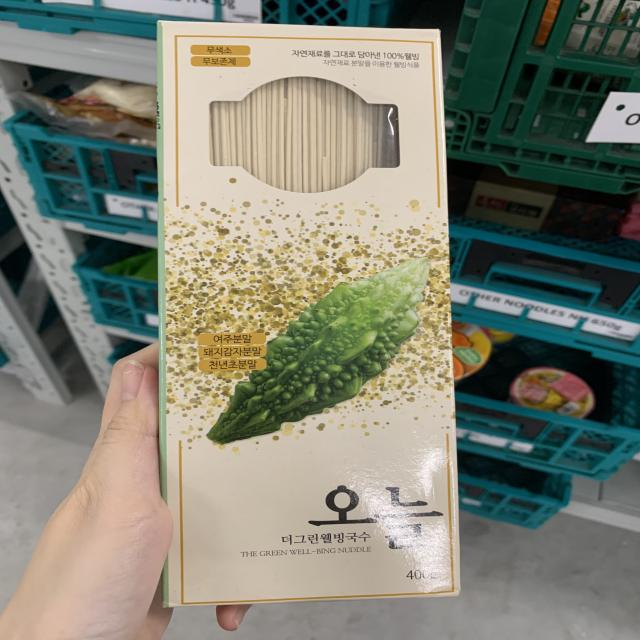object_name: (170, 30, 441, 592)
